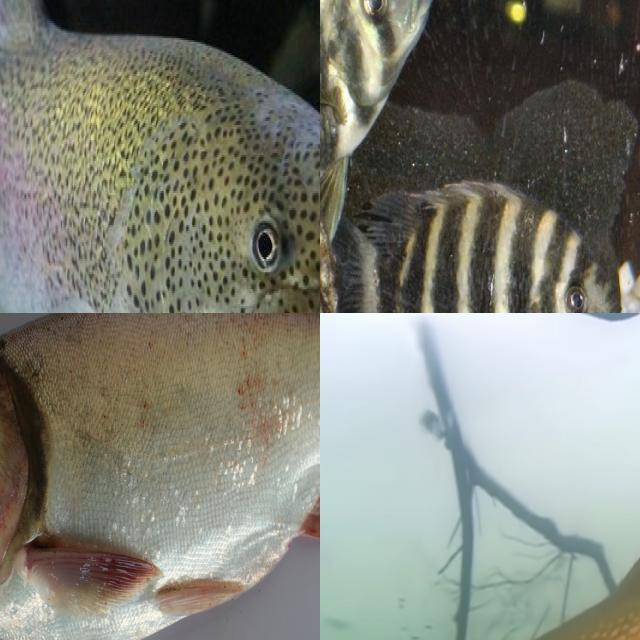fish: (0, 313, 320, 640), (0, 0, 320, 313)
